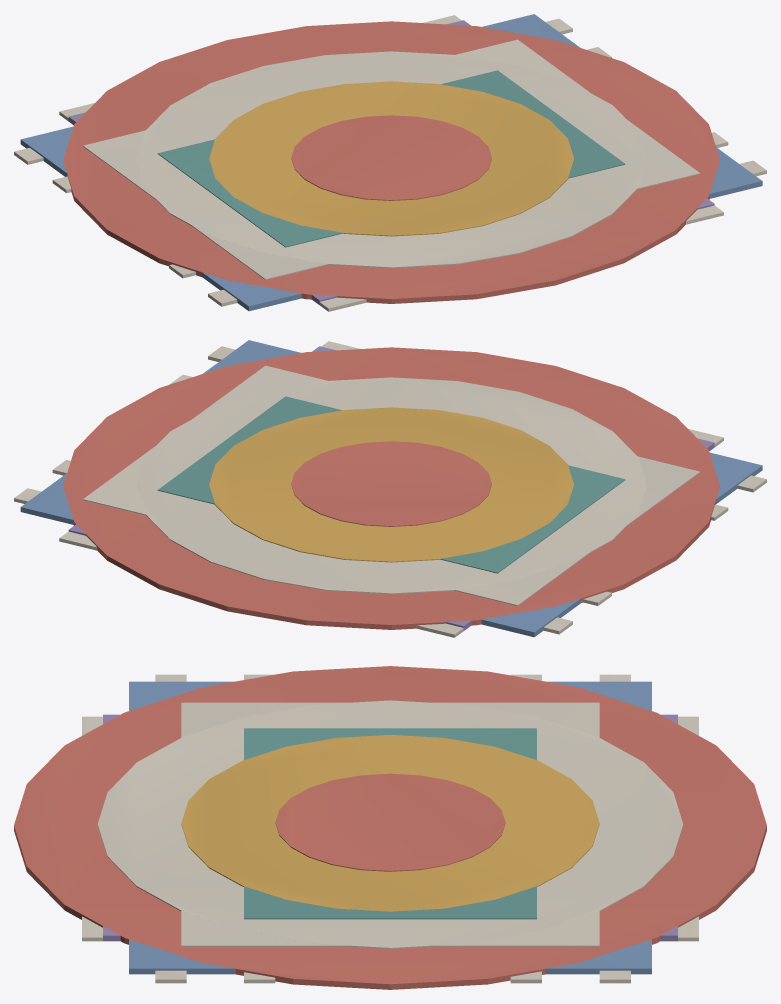
Rendered from rug.glb.
The picture shows the model from 3 angles, top to bottom: view 1: azimuth 30°, elevation 25°; view 2: azimuth 150°, elevation 25°; view 3: azimuth 270°, elevation 25°; orthographic projection. The views are drawn at different scales.
Parts seen in each view (by area): view 1: rug.v0.mesh, rug.v1.mesh, rug.v2.mesh; view 2: rug.v0.mesh, rug.v1.mesh, rug.v2.mesh; view 3: rug.v0.mesh, rug.v1.mesh, rug.v2.mesh.
Part boxes in pixels (left/top/right/bottom): rug.v0.mesh: left=63, top=21, right=719, bottom=303; rug.v1.mesh: left=14, top=14, right=766, bottom=311; rug.v2.mesh: left=59, top=15, right=723, bottom=311; rug.v0.mesh: left=63, top=347, right=719, bottom=629; rug.v1.mesh: left=14, top=340, right=766, bottom=637; rug.v2.mesh: left=59, top=341, right=723, bottom=637; rug.v0.mesh: left=14, top=666, right=766, bottom=989; rug.v1.mesh: left=129, top=674, right=651, bottom=983; rug.v2.mesh: left=82, top=714, right=698, bottom=941.
Size of the model in its own units: 1.44 by 0.018 by 1.44.
